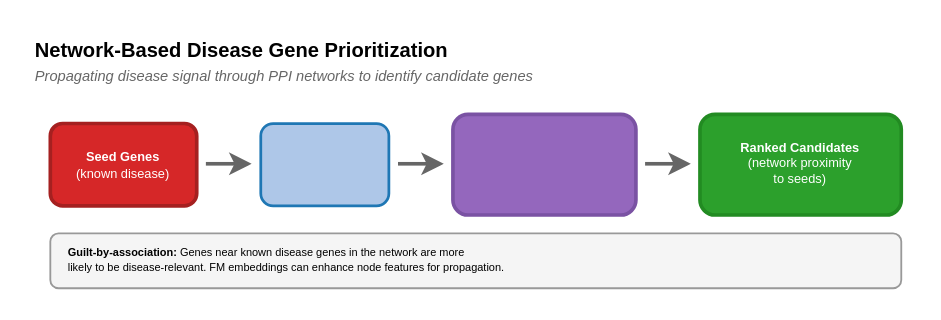
Some shapes in this 941 by 320 pixel diagram are drawn without their labels. The shapes that lost their labels are listed below. From the top down, each one's box as (x1, y1, x2, y2) in pixels, then its label:
(259, 121, 389, 206): PPI Network
(450, 112, 637, 216): Network Propagation (Random Walk)
